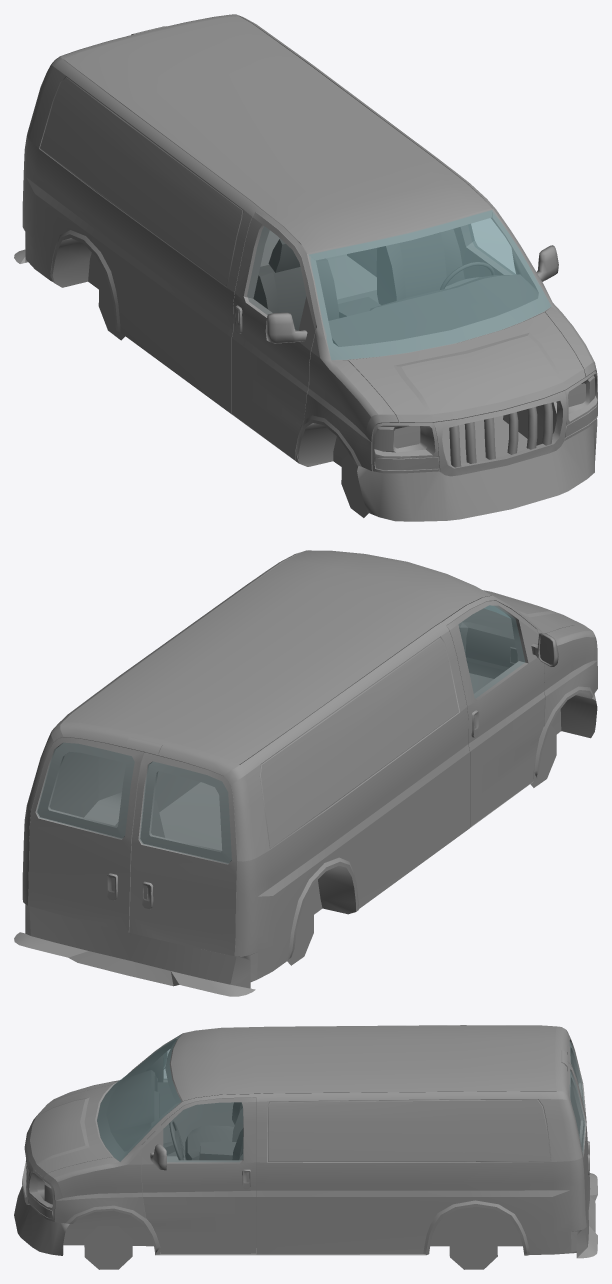
File: Van_1.FBX
The picture shows the model from 3 angles, top to bottom: view 1: azimuth 30°, elevation 25°; view 2: azimuth 150°, elevation 25°; view 3: azimuth 270°, elevation 25°; orthographic projection. The views are drawn at different scales.
Parts seen in each view (by area): view 1: VAN_1_Body, VAN_1_Roof, VAN_1_Window_F, VAN_1_Dashboard, VAN_1_Hood, VAN_1_Door_FR, VAN_1_Window_FR, VAN_1_Door_FL, Van_1_Brake_FR, VAN_1_Brake_RR; view 2: VAN_1_Body, VAN_1_Roof, VAN_1_Door_RR, VAN_1_Door_RL, VAN_1_Door_FR, VAN_1_Window_RR, VAN_1_Window_RL, VAN_1_Window_FR, VAN_1_Dashboard, VAN_1_Hood, VAN_1_Brake_RR, Van_1_Brake_FR; view 3: VAN_1_Body, VAN_1_Roof, VAN_1_Door_FL, VAN_1_Window_F, VAN_1_Dashboard, VAN_1_Hood, VAN_1_Window_FL, VAN_1_Door_FR, VAN_1_Brake_RL, VAN_1_Brake_FL, VAN_1_Door_RL, VAN_1_Window_RL (+2 smaller).
Boxes of the visible parts, left/top/right/bottom form: VAN_1_Body: left=14, top=14, right=597, bottom=521; VAN_1_Roof: left=63, top=16, right=492, bottom=260; VAN_1_Window_F: left=309, top=210, right=551, bottom=359; VAN_1_Dashboard: left=253, top=229, right=538, bottom=346; VAN_1_Hood: left=348, top=312, right=585, bottom=422; VAN_1_Door_FR: left=232, top=212, right=316, bottom=459; VAN_1_Window_FR: left=247, top=226, right=305, bottom=330; VAN_1_Door_FL: left=453, top=224, right=558, bottom=281; Van_1_Brake_FR: left=341, top=453, right=368, bottom=517; VAN_1_Brake_RR: left=98, top=276, right=125, bottom=340; VAN_1_Body: left=14, top=550, right=597, bottom=996; VAN_1_Roof: left=64, top=550, right=491, bottom=764; VAN_1_Door_RR: left=129, top=752, right=237, bottom=955; VAN_1_Door_RL: left=28, top=737, right=143, bottom=932; VAN_1_Door_FR: left=446, top=601, right=558, bottom=827; VAN_1_Window_RR: left=139, top=762, right=231, bottom=863; VAN_1_Window_RL: left=36, top=743, right=134, bottom=838; VAN_1_Window_FR: left=459, top=605, right=524, bottom=698; VAN_1_Dashboard: left=458, top=608, right=518, bottom=678; VAN_1_Hood: left=483, top=590, right=583, bottom=633; VAN_1_Brake_RR: left=287, top=899, right=313, bottom=965; Van_1_Brake_FR: left=530, top=725, right=556, bottom=787; VAN_1_Body: left=14, top=1025, right=597, bottom=1258; VAN_1_Roof: left=165, top=1025, right=556, bottom=1103; VAN_1_Door_FL: left=141, top=1097, right=256, bottom=1253; VAN_1_Window_F: left=97, top=1035, right=181, bottom=1161; VAN_1_Dashboard: left=106, top=1070, right=243, bottom=1160; VAN_1_Hood: left=26, top=1085, right=113, bottom=1177; VAN_1_Window_FL: left=163, top=1102, right=242, bottom=1161; VAN_1_Door_FR: left=146, top=1052, right=234, bottom=1156; VAN_1_Brake_RL: left=449, top=1226, right=497, bottom=1269; VAN_1_Brake_FL: left=84, top=1226, right=132, bottom=1269; VAN_1_Door_RL: left=567, top=1062, right=589, bottom=1226; VAN_1_Window_RL: left=570, top=1070, right=585, bottom=1151.
Bounding box in the file's own units: 93.05 × 74.46 × 216.
